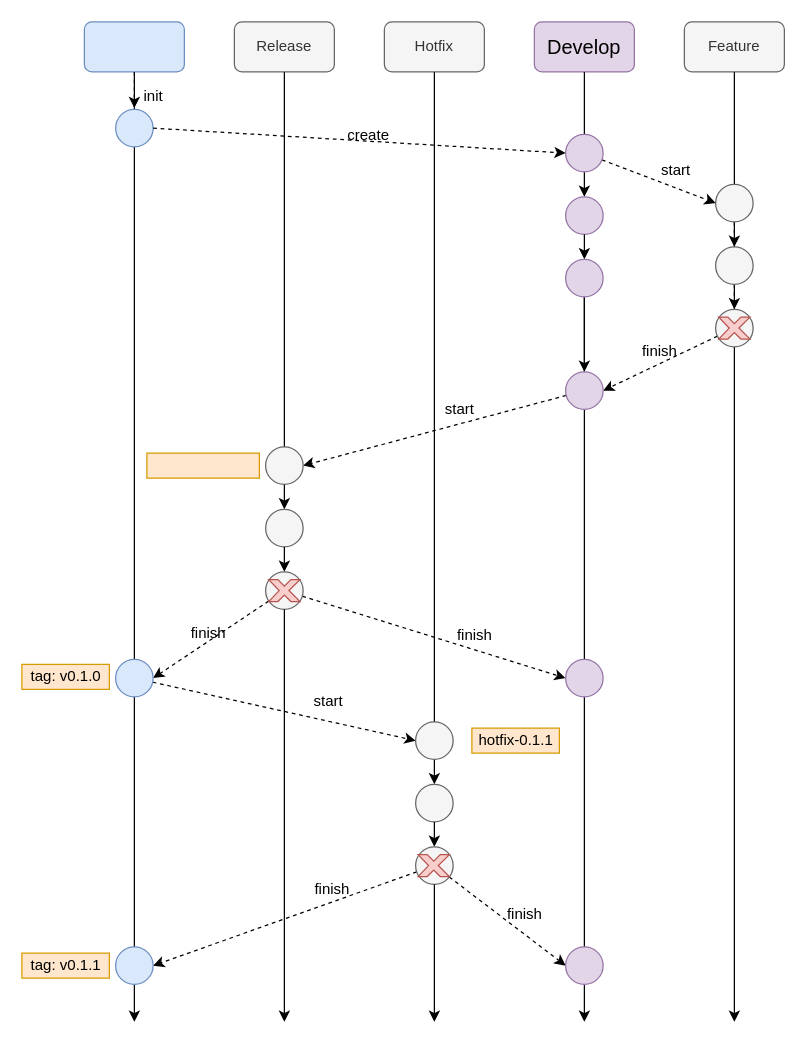
The diagram is 806 pixels wide and 1054 high, and some of its shapes have lost their labels. The centre of each missing label's shape, as x and y in pixels:
"Master" belongs at point (133, 46).
"release-0.1.0" belongs at point (202, 465).
